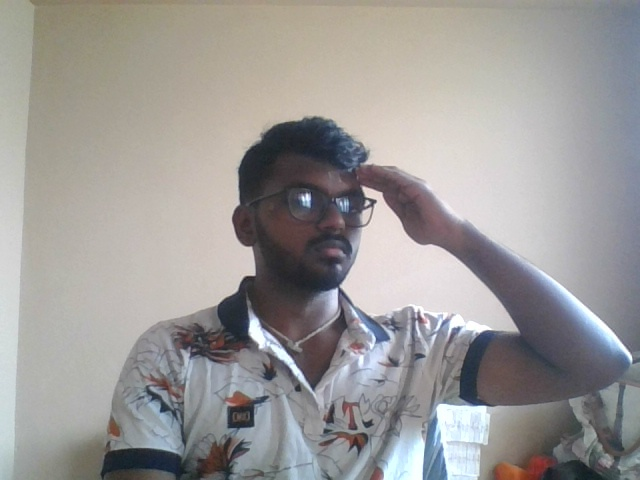Hello: (330, 145, 467, 289)
